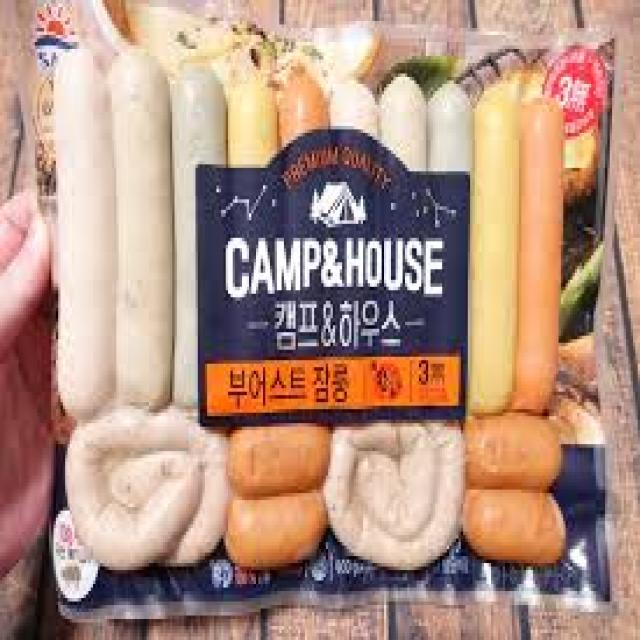Sausage/Hot Dog Link: (42, 35, 181, 409), (469, 77, 566, 416)
